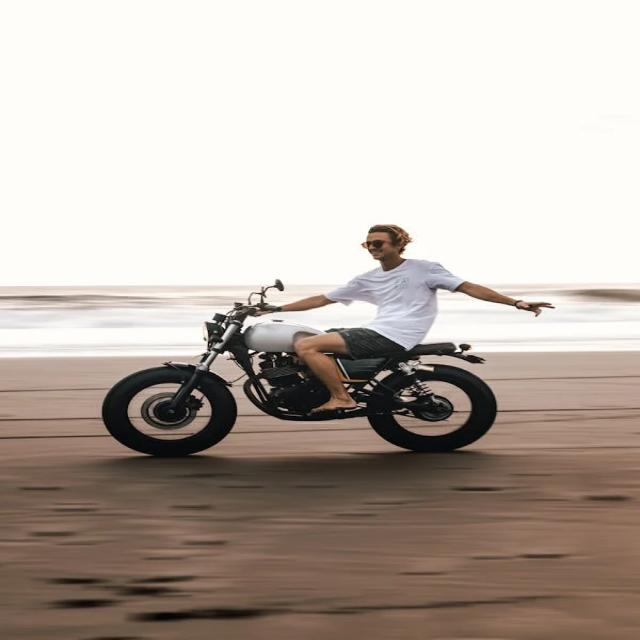Real human 2: (265, 195, 567, 424)
